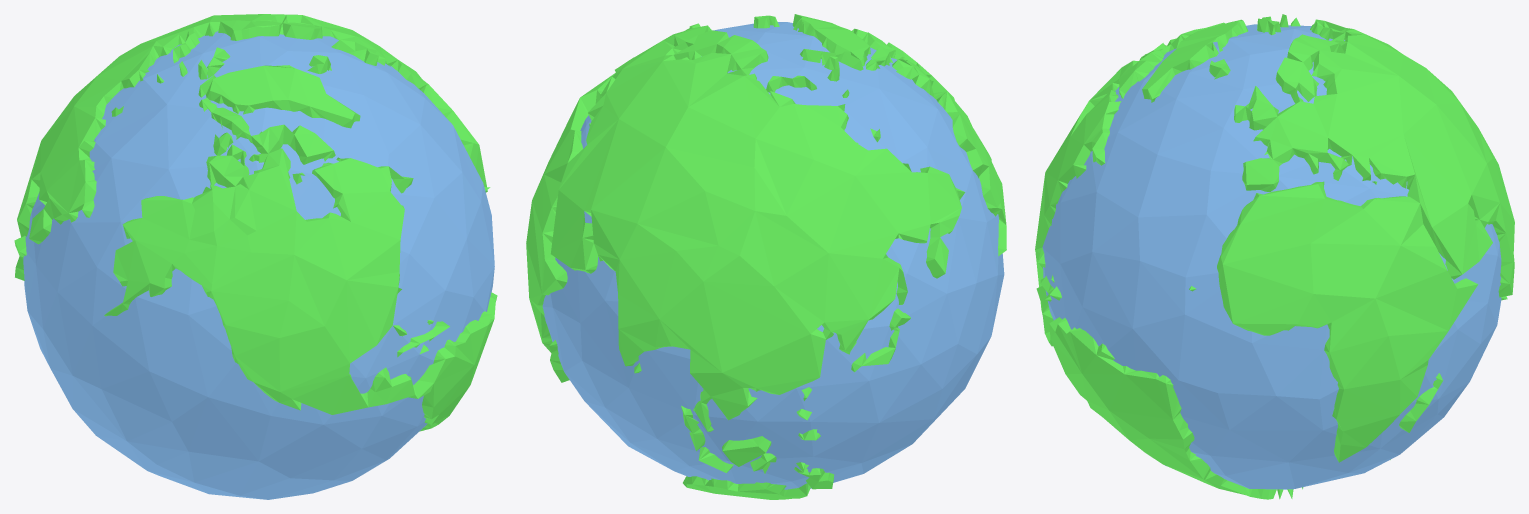
The model's file is low_poly_earth.gltf.glb.
3 views of the same model, side by side, from view 1: azimuth 30°, elevation 25°; view 2: azimuth 150°, elevation 25°; view 3: azimuth 270°, elevation 25° (orthographic).
Visible parts, largest first — view 1: low_poly_earth; view 2: low_poly_earth; view 3: low_poly_earth.
Part boxes in pixels (x1,y1,x2,y2): low_poly_earth: (14,14,497,499); low_poly_earth: (526,14,1006,499); low_poly_earth: (1035,14,1514,499).
Size of the model in its own units: 1.95 by 2.01 by 1.99.
